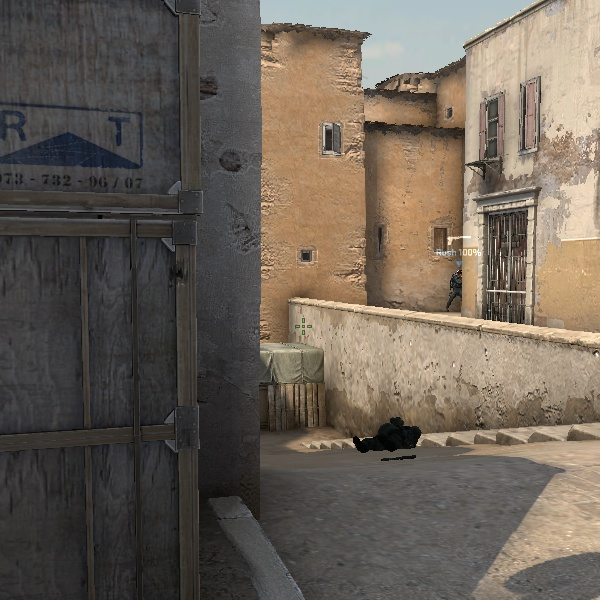ct_body: (443, 265, 467, 311)
ct_head: (453, 268, 465, 279)
